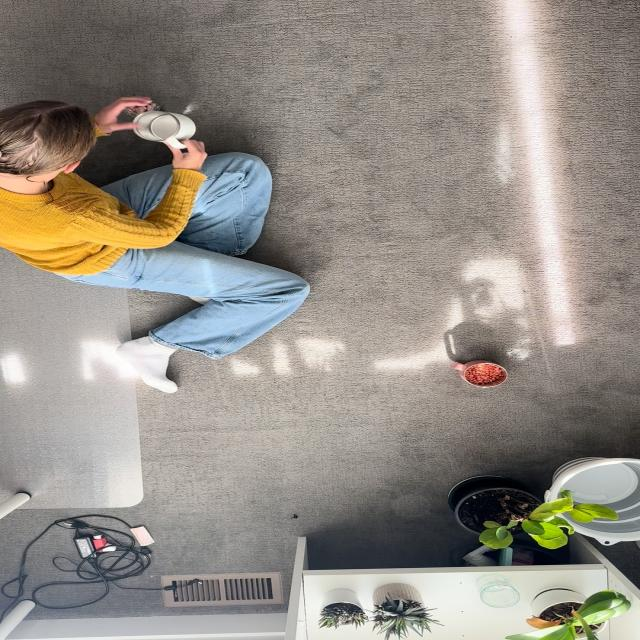IBC: (133, 110, 196, 149), (451, 360, 507, 388)
